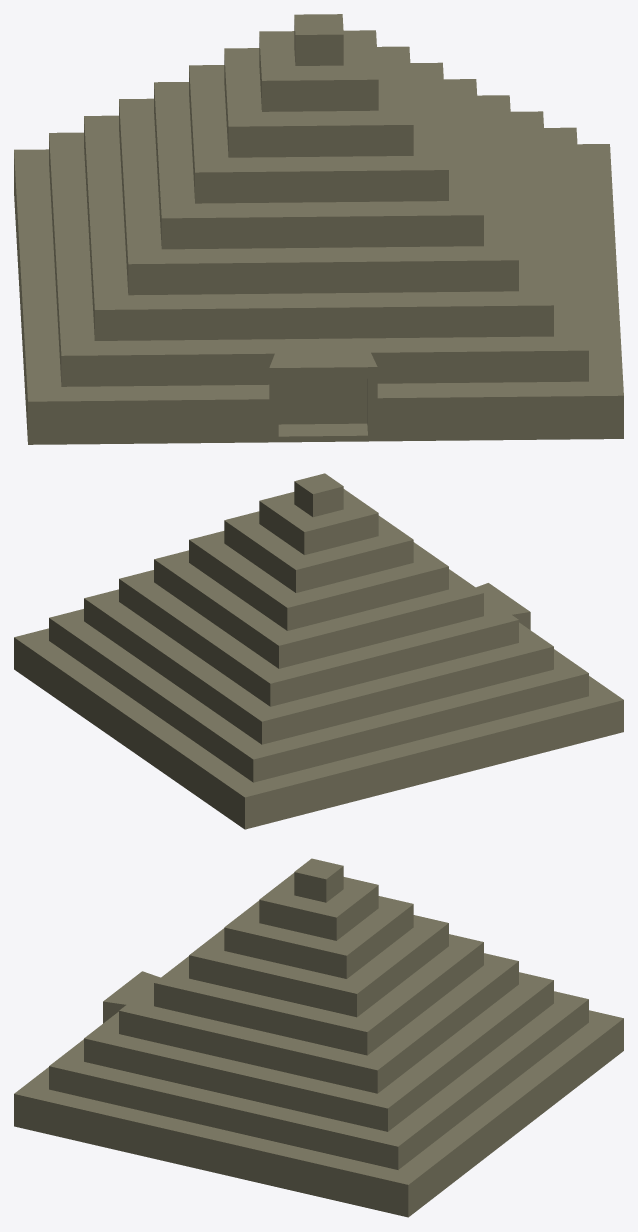
3 renders of one model, top to bottom at view 1: azimuth 30°, elevation 25°; view 2: azimuth 150°, elevation 25°; view 3: azimuth 270°, elevation 25°, orthographic. The views are drawn at different scales.
Visible parts, largest first — view 1: Pyramid; view 2: Pyramid; view 3: Pyramid.
Part boxes in pixels (x1,y1,x2,y2): Pyramid: (14,14,623,444); Pyramid: (14,473,623,829); Pyramid: (14,858,623,1217).
Bounding box in the file's own units: 7.09 × 2.82 × 7.09.
